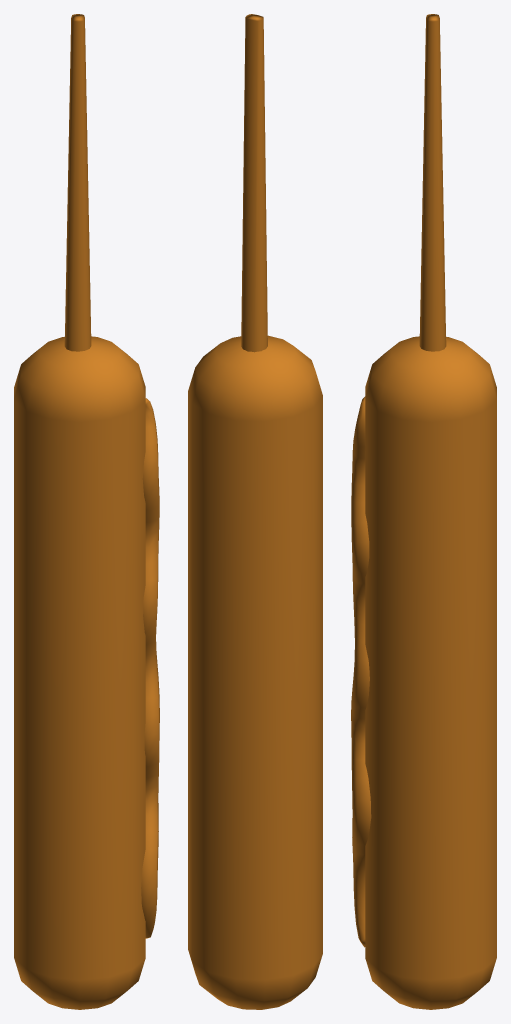
3 renders of one model, left to right at view 1: azimuth 90°, elevation 25°; view 2: azimuth 150°, elevation 25°; view 3: azimuth 270°, elevation 25°, orthographic.
Bounding box in the file's own units: 0.1248 × 1 × 0.1347.
